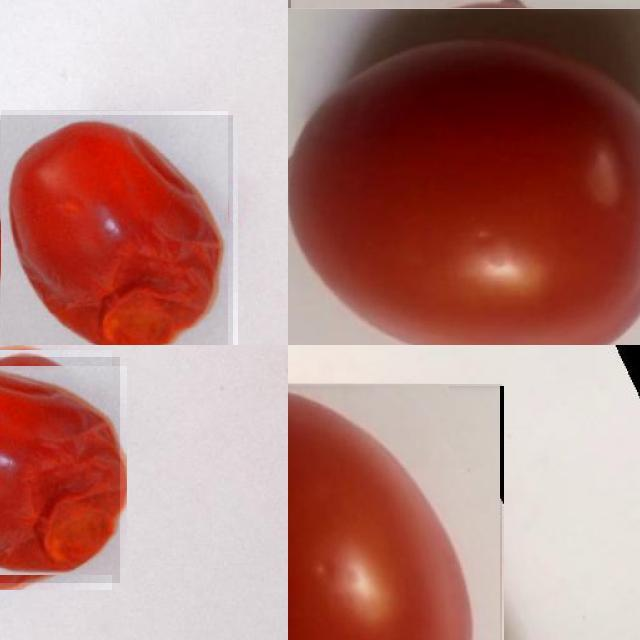Fresh Tomato: (288, 0, 640, 345), (288, 384, 501, 640)
Rotten Tomato: (0, 114, 233, 345), (0, 357, 119, 582)
